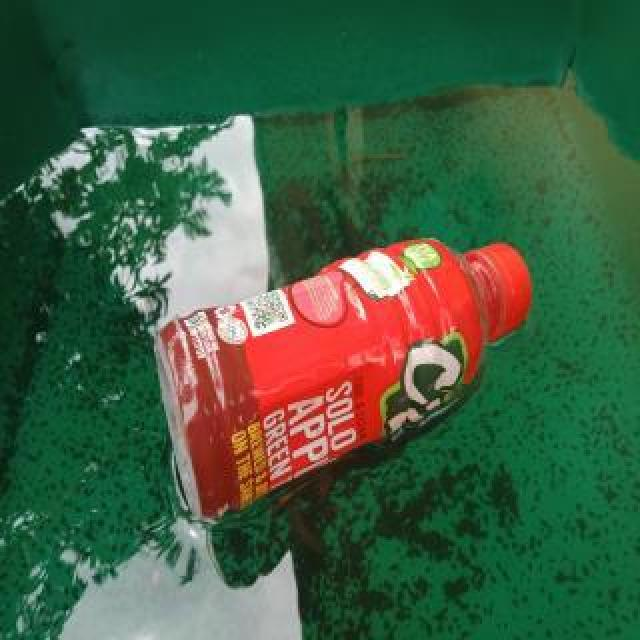bottle: (151, 232, 535, 520)
